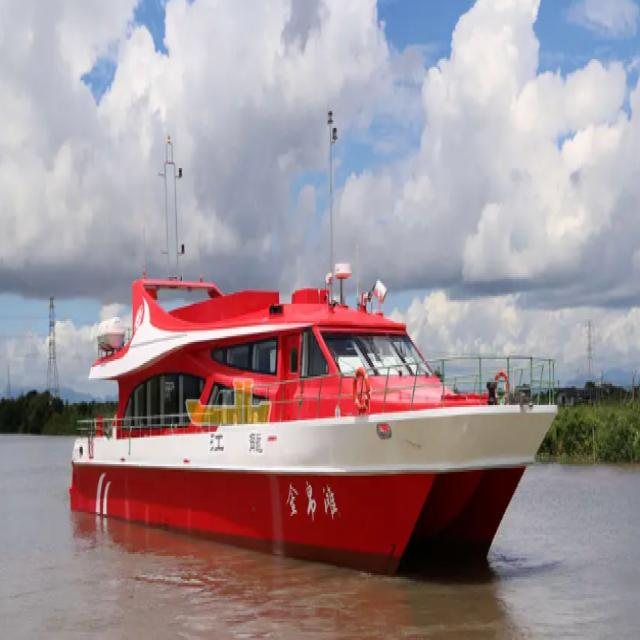houseboat: (72, 186, 553, 580)
